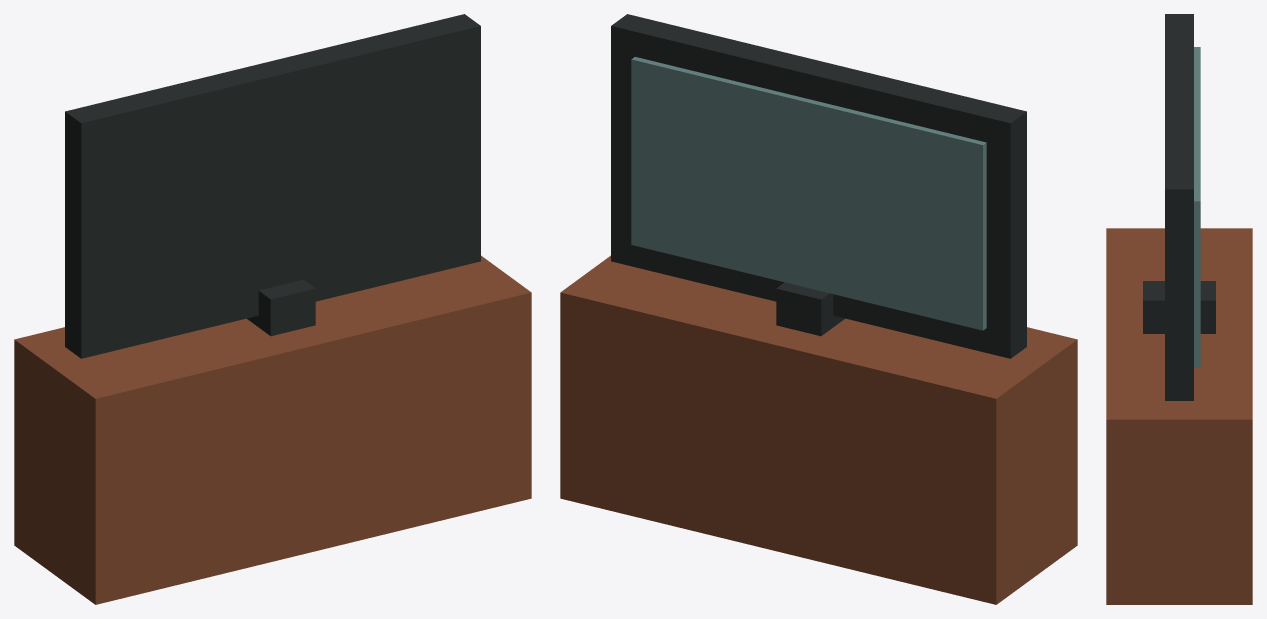
The model's file is television.glb.
3 renders of one model, left to right at view 1: azimuth 30°, elevation 25°; view 2: azimuth 150°, elevation 25°; view 3: azimuth 270°, elevation 25°, orthographic. The views are drawn at different scales.
Visible parts, largest first — view 1: _MeshInstance3D_464, _MeshInstance3D_467, _MeshInstance3D_469; view 2: _MeshInstance3D_464, _MeshInstance3D_468, _MeshInstance3D_467, _MeshInstance3D_469; view 3: _MeshInstance3D_464, _MeshInstance3D_467, _MeshInstance3D_468, _MeshInstance3D_469.
Part boxes in pixels (x1,y1,x2,y2): _MeshInstance3D_464: (14,255,531,604); _MeshInstance3D_467: (65,14,480,358); _MeshInstance3D_469: (247,279,315,336); _MeshInstance3D_464: (560,255,1077,604); _MeshInstance3D_468: (631,57,986,330); _MeshInstance3D_467: (611,14,1026,358); _MeshInstance3D_469: (776,282,844,336); _MeshInstance3D_464: (1106,228,1252,604); _MeshInstance3D_467: (1165,14,1193,400); _MeshInstance3D_468: (1194,47,1200,367); _MeshInstance3D_469: (1143,281,1215,333).
Size of the model in its own units: 1.55 by 1.54 by 0.5.
